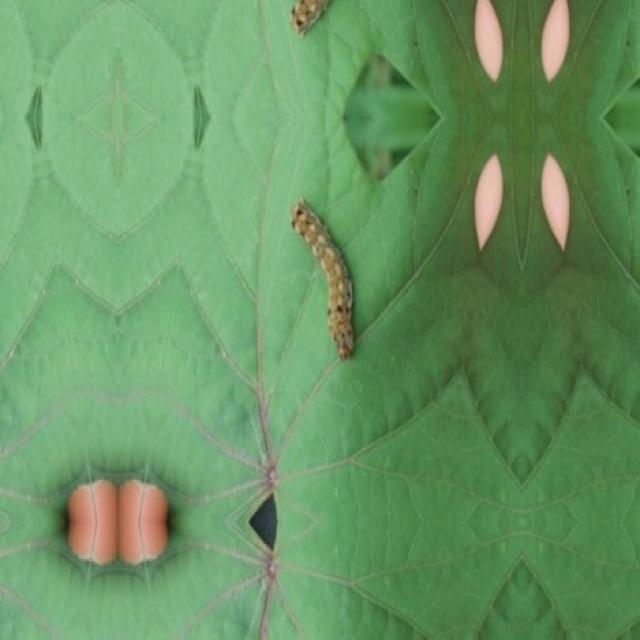armyworm: (289, 194, 355, 361)
